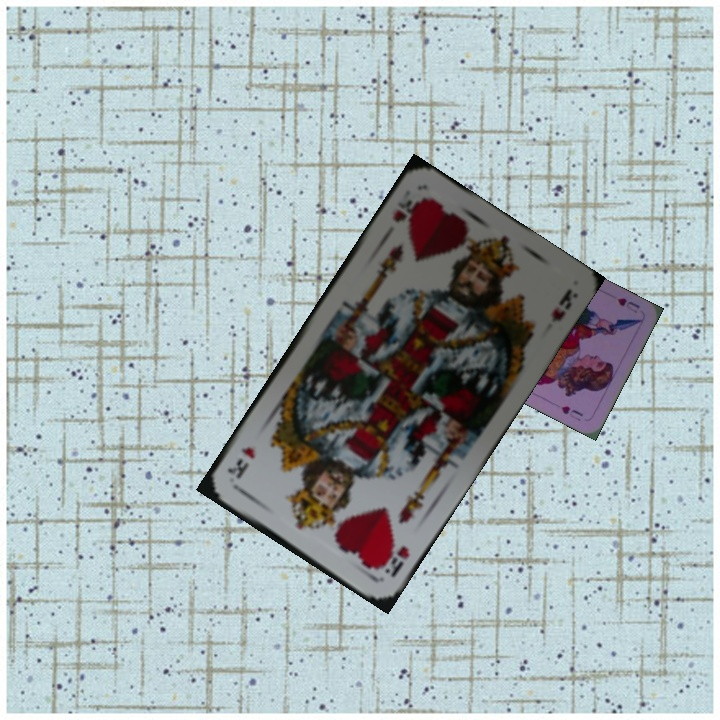HK: (373, 539, 413, 581), (388, 192, 426, 225)
HU: (613, 293, 642, 316)
